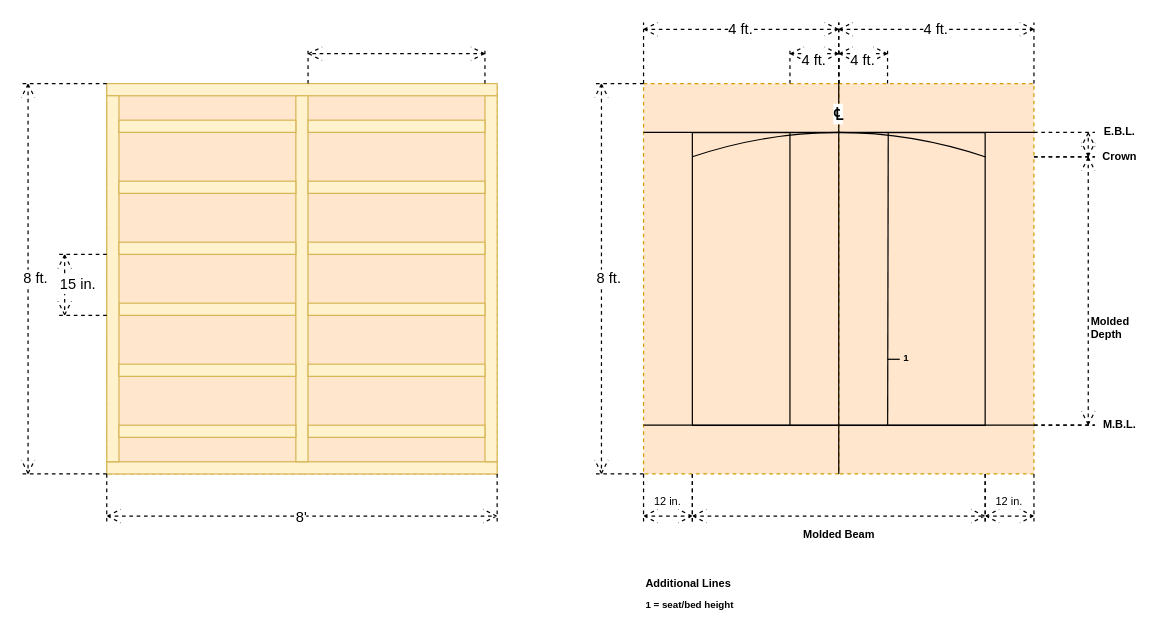
Some shapes in this 1171 by 634 pixel diagram are drawn without their labels. Each missing label, with the box of its shape:
3 ft. 3 in.: (307, 46, 485, 84)
5 ft. 6 in.: (1033, 156, 1095, 425)
6 in.: (1033, 131, 1095, 157)
6ft.: (691, 473, 985, 523)
